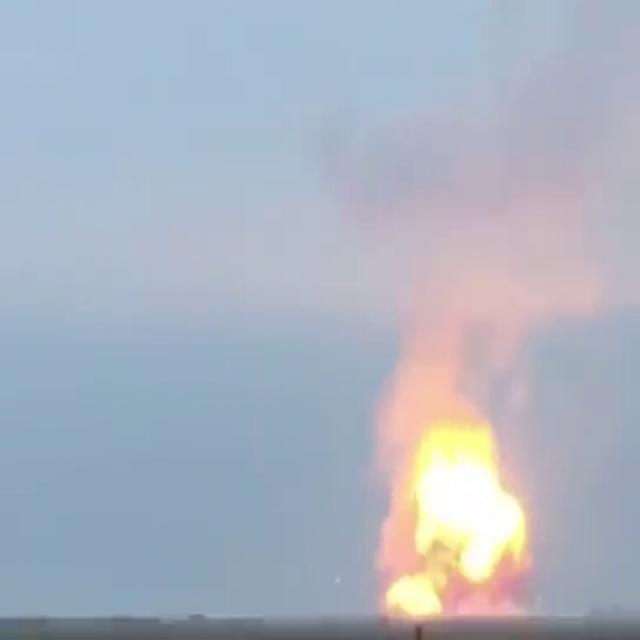Fire: (375, 363, 534, 622)
